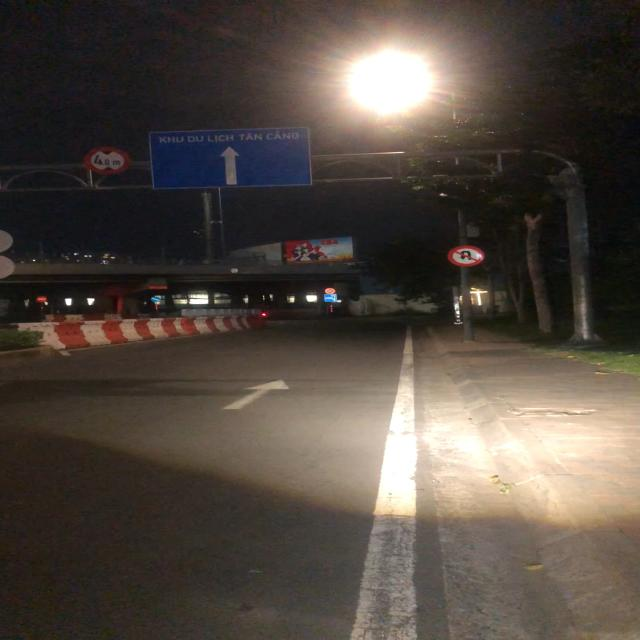Bien bao cam quay dau xe: (447, 244, 489, 268)
Bien bao han che chieu cao: (85, 146, 136, 177)
